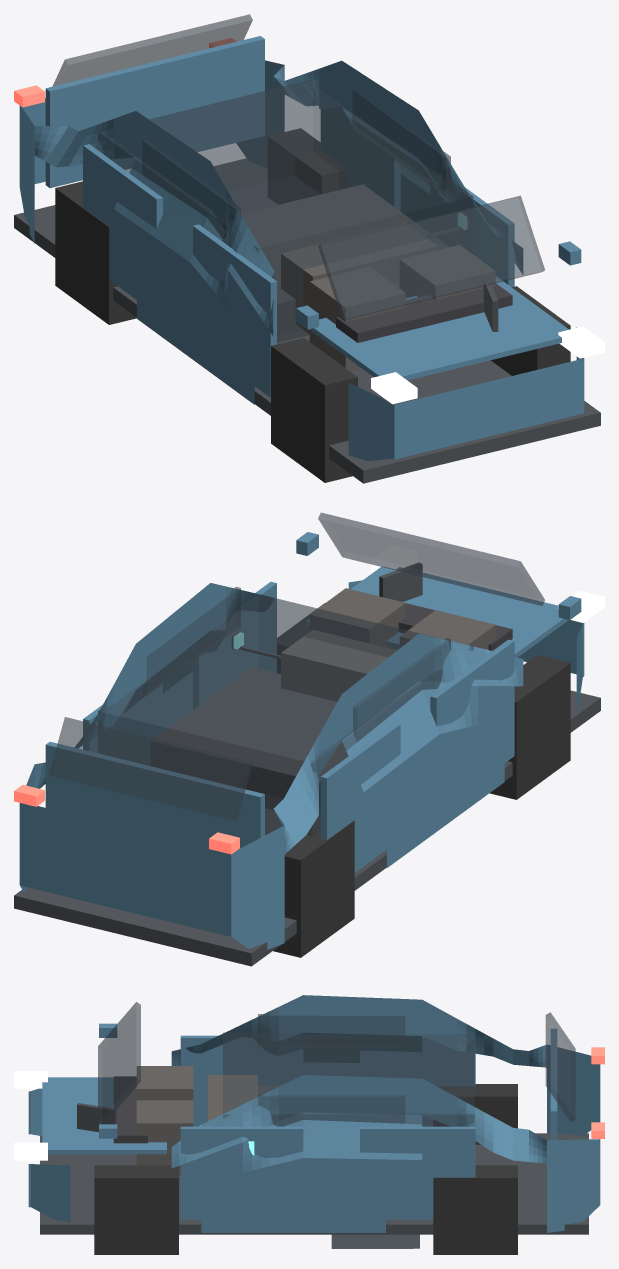
Rendered from suv_lod.e6d2162c9e.glb.
The picture shows the model from 3 angles, top to bottom: view 1: azimuth 30°, elevation 25°; view 2: azimuth 150°, elevation 25°; view 3: azimuth 270°, elevation 25°; orthographic projection. The views are drawn at different scales.
Visible parts, largest first — view 1: body_mesh, cab_mesh, windshield, liftgate_mesh, trim_mesh, frunk_mesh, tire_fr, wheel_well_mesh, tire_rr, seat_rear, door_rr_mesh, rear_glass (+12 smaller); view 2: body_mesh, cab_mesh, wheel_well_mesh, liftgate_mesh, rear_glass, trim_mesh, windshield, tire_rr, tire_fr, door_rr_mesh, frunk_mesh, seat_rear (+12 smaller); view 3: body_mesh, cab_mesh, trim_mesh, tire_fl, door_rl_mesh, tire_rl, frunk_mesh, door_fr_mesh, window_fixed_r, door_fl_mesh, door_rr_mesh, window_fixed_l (+13 smaller).
Part boxes in pixels (x1,y1,x2,y2): body_mesh: (19, 60, 584, 460); cab_mesh: (98, 80, 473, 336); windshield: (318, 195, 544, 320); liftgate_mesh: (45, 36, 264, 188); trim_mesh: (14, 158, 600, 483); frunk_mesh: (309, 276, 568, 380); tire_fr: (271, 338, 357, 482); wheel_well_mesh: (241, 184, 447, 342); tire_rr: (55, 181, 136, 324); seat_rear: (281, 223, 437, 334); door_rr_mesh: (83, 144, 162, 299); rear_glass: (52, 14, 252, 86); body_mesh: (19, 580, 584, 949); cab_mesh: (98, 595, 473, 835); wheel_well_mesh: (151, 667, 348, 813); liftgate_mesh: (45, 741, 264, 848); rear_glass: (49, 717, 252, 821); trim_mesh: (14, 690, 600, 966); windshield: (318, 512, 544, 605); tire_rr: (273, 814, 354, 957); tire_fr: (490, 655, 570, 799); door_rr_mesh: (320, 723, 400, 872); frunk_mesh: (306, 566, 568, 657); seat_rear: (281, 630, 396, 701); body_mesh: (28, 995, 600, 1232); cab_mesh: (223, 1032, 474, 1126); trim_mesh: (40, 1133, 588, 1234); tire_fl: (94, 1165, 178, 1254); door_rl_mesh: (360, 1126, 475, 1219); tire_rl: (433, 1165, 517, 1254); frunk_mesh: (42, 1077, 166, 1154); door_fr_mesh: (180, 1035, 302, 1126); window_fixed_r: (258, 1014, 404, 1046); door_fl_mesh: (180, 1126, 303, 1219); door_rr_mesh: (360, 1036, 475, 1126); window_fixed_l: (258, 1094, 404, 1126).
Bounding box in the file's own units: 2.19 × 2.07 × 5.21.
